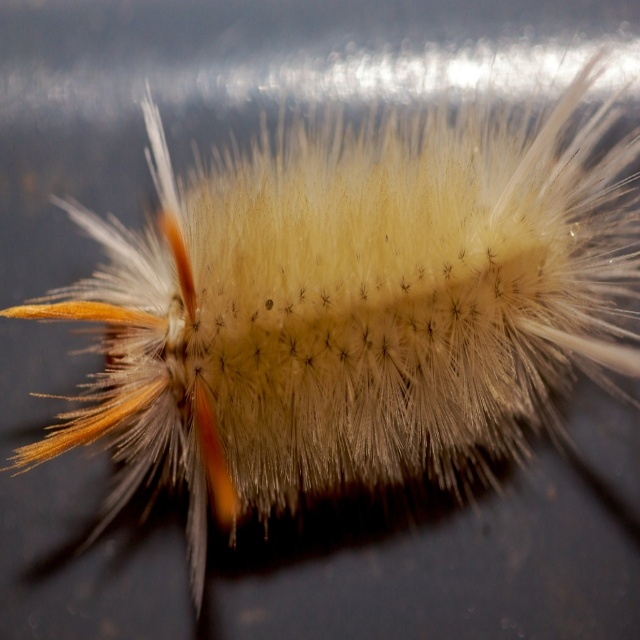Caterpillar: (0, 2, 640, 626)
